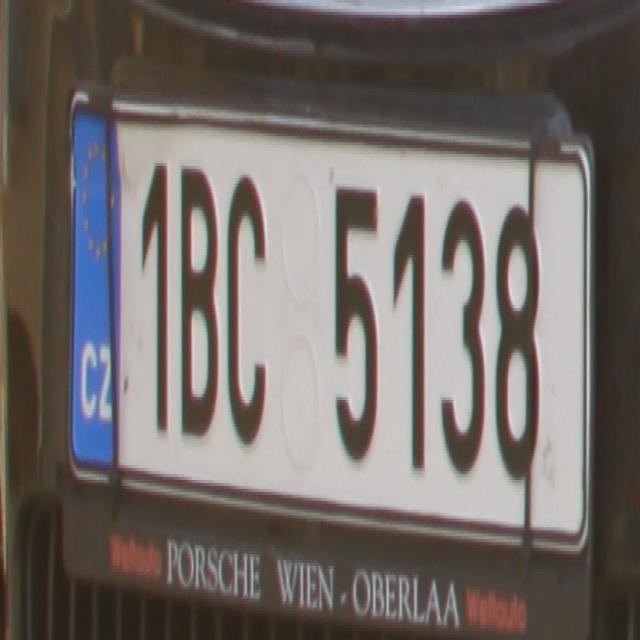1: (390, 190, 432, 480), (136, 157, 173, 442)
3: (438, 187, 488, 480)
5: (331, 169, 380, 477)
8: (492, 190, 546, 490)
B: (178, 148, 222, 442)
C: (226, 160, 270, 450)
